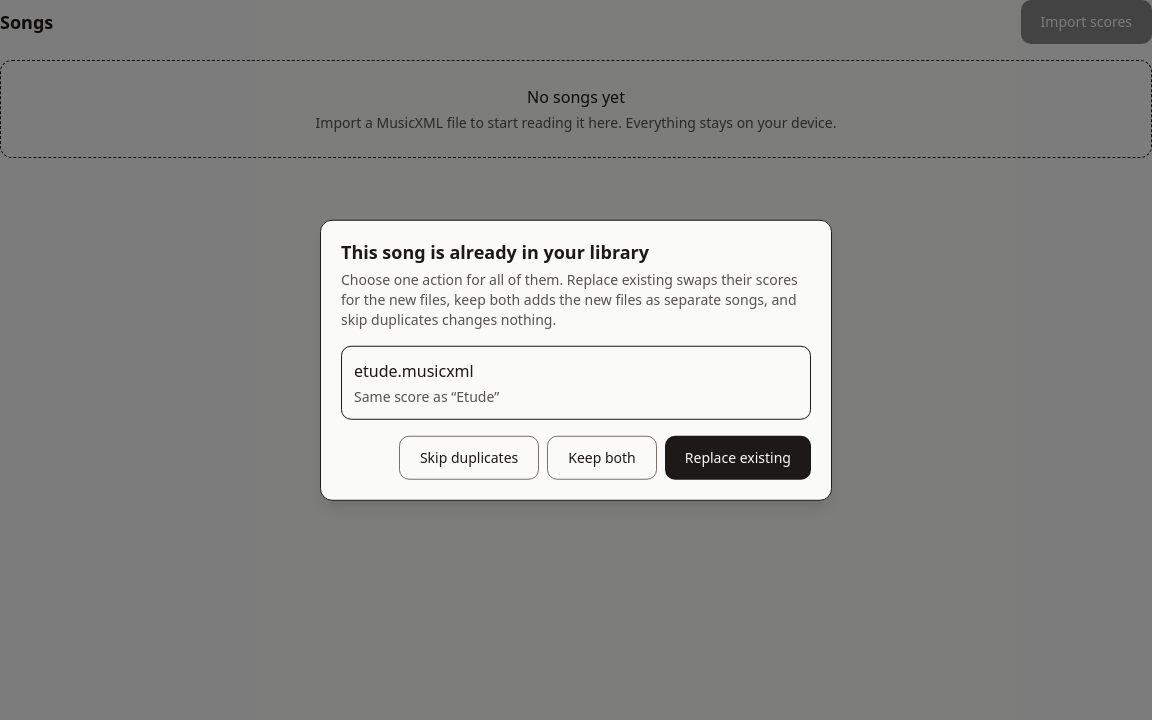
skipping is listed in the summary as a skipped duplicate
Earlier steps of the test are not shown.
Click the button "Skip duplicates": point(469, 457) [399,435,539,479]
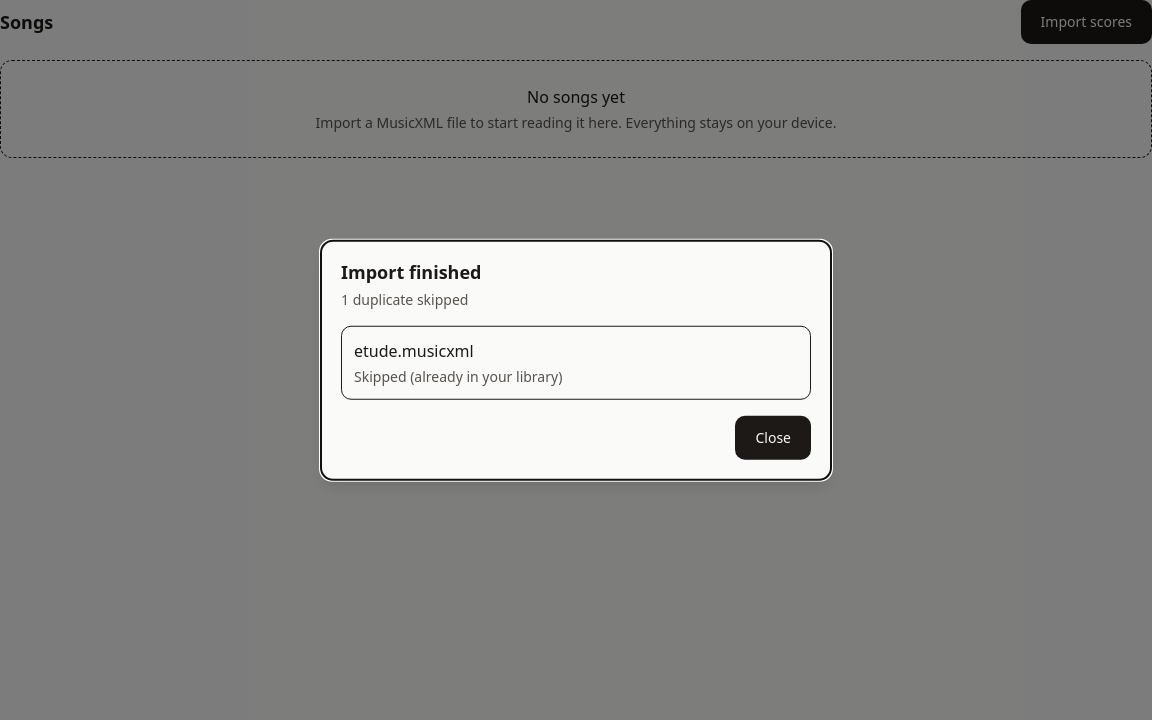
Expected: the text "1 duplicate skipped" is shown, [341,289,468,308]
Expected: the text "Skipped (already in your library)" is shown, [354,366,562,385]
